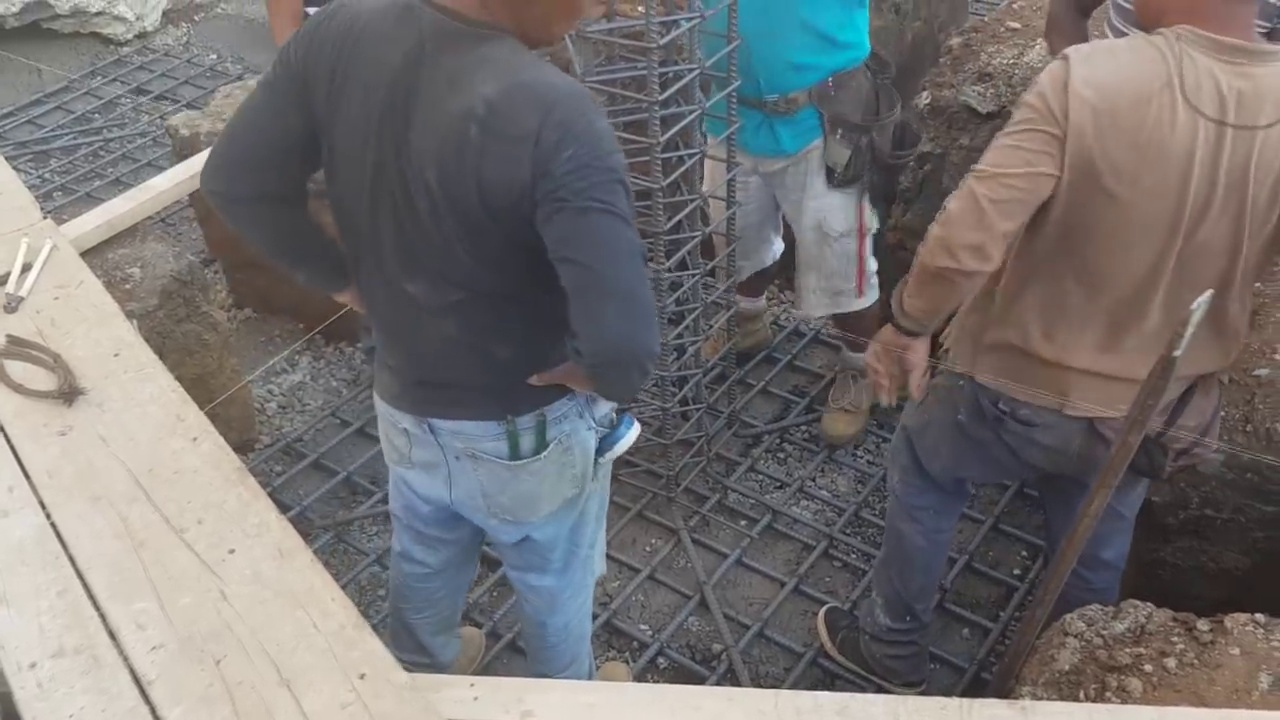person: (193, 0, 674, 665), (830, 0, 1280, 700), (689, 0, 905, 430)
